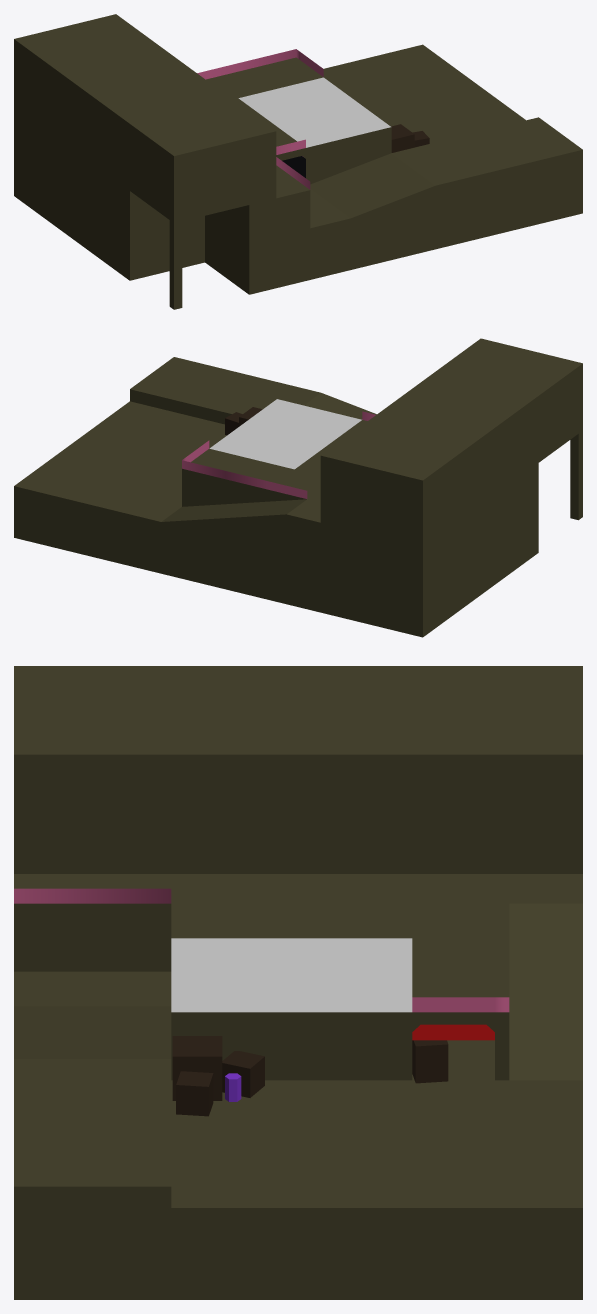
The model's file is facility.obj.
3 views of the same model, one above another, from view 1: azimuth 30°, elevation 25°; view 2: azimuth 150°, elevation 25°; view 3: azimuth 270°, elevation 25° (orthographic). The views are drawn at different scales.
Parts seen in each view (by area): view 1: Cube.004, Crate1; view 2: Cube.004; view 3: Cube.004, Crate1, Crate3, Crate4, Crate2, Cube.
Boxes of the visible parts, x1,y1,x2,y2 form: Cube.004: [14, 14, 582, 309]; Crate1: [391, 124, 414, 152]; Cube.004: [14, 338, 582, 637]; Cube.004: [14, 666, 582, 1299]; Crate1: [172, 1036, 222, 1100]; Crate3: [176, 1071, 213, 1116]; Crate4: [412, 1040, 448, 1083]; Crate2: [222, 1051, 264, 1097]; Cube: [412, 1024, 494, 1040].
Bounding box in the file's own units: 50.8 × 18.64 × 34.45.
